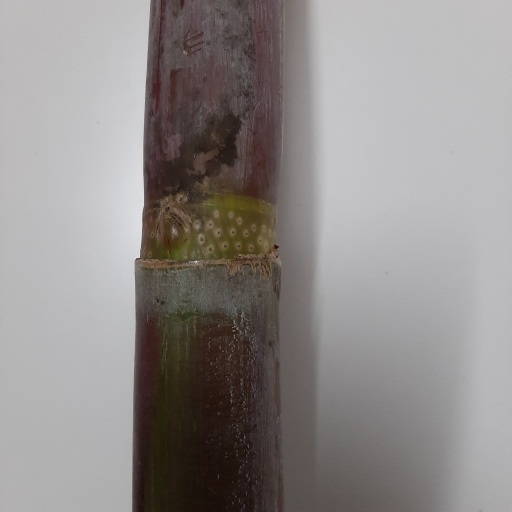Bud: (154, 211, 188, 260)
